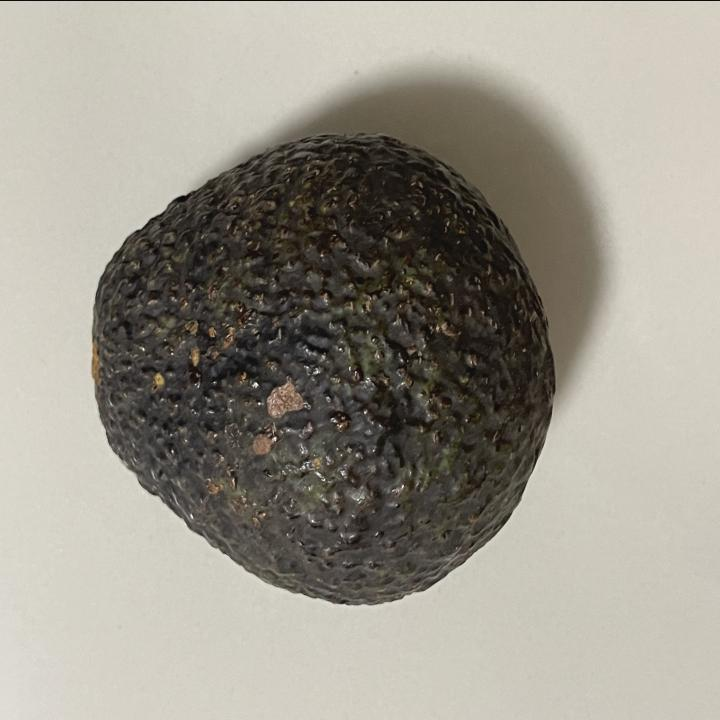Level2: (78, 124, 564, 614)
